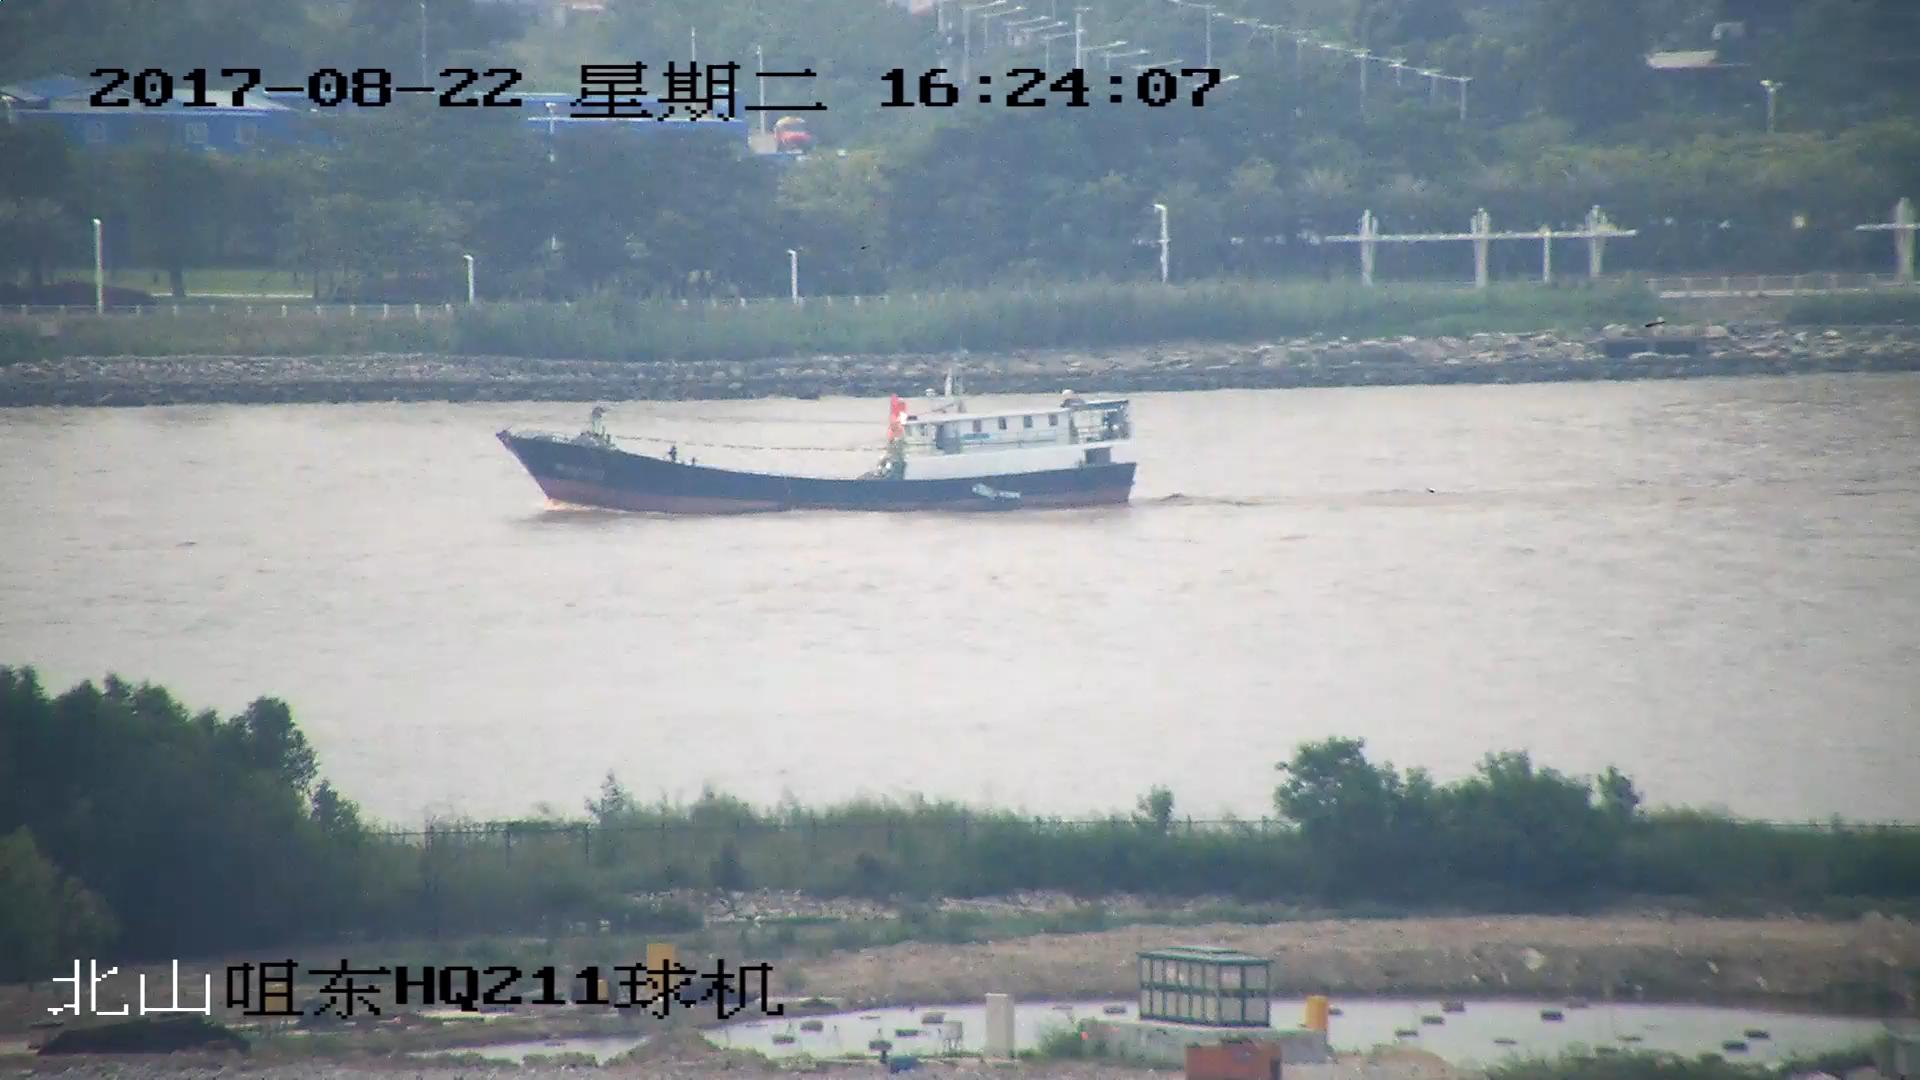fishing boat: (506, 365, 1137, 522)
